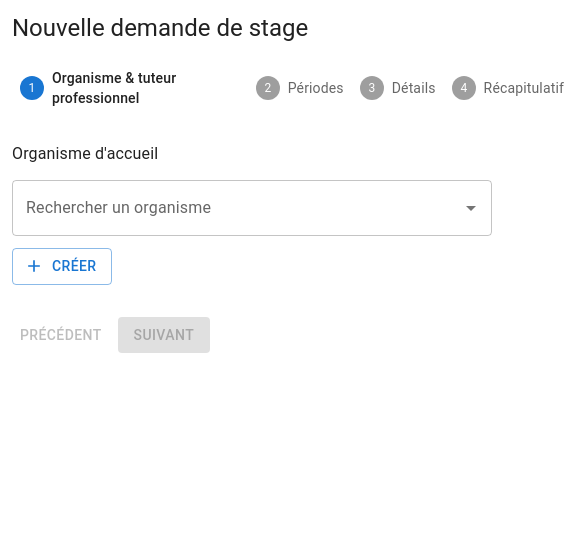
NewStagePage › finds and selects an existing organism, prefilling structureType/address read-only
Type "Cochin" into the dropdown labelled "Rechercher un organisme" at (237, 208), box top-left (21, 189), bottom-right (453, 227)
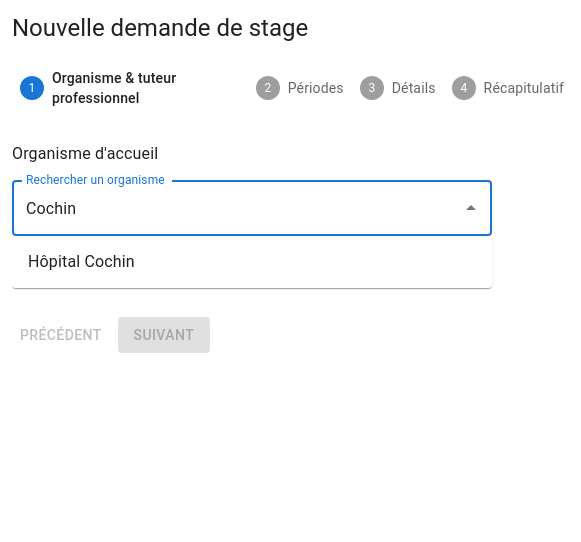
Click the option "Hôpital Cochin" at (81, 262), box top-left (28, 252), bottom-right (135, 271)
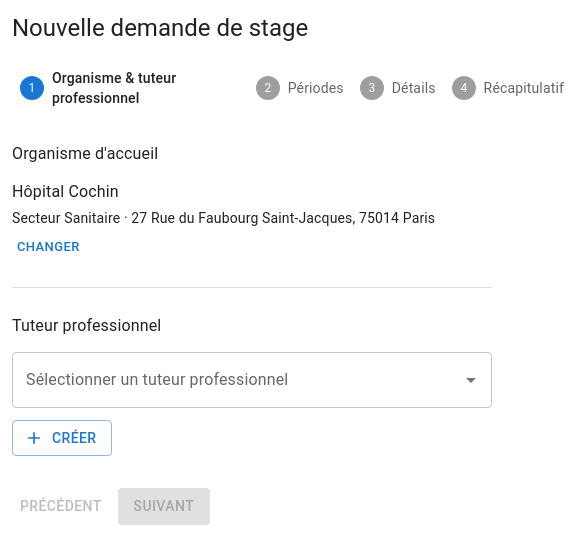
expect the dropdown labelled "Sélectionner un tuteur professionnel" is shown: met, box top-left (21, 361), bottom-right (453, 399)
expect the text "Secteur Sanitaire · 27 Rue du Faubourg Saint-Jacques, 75014 Paris" is shown: met, box top-left (12, 208), bottom-right (492, 228)
